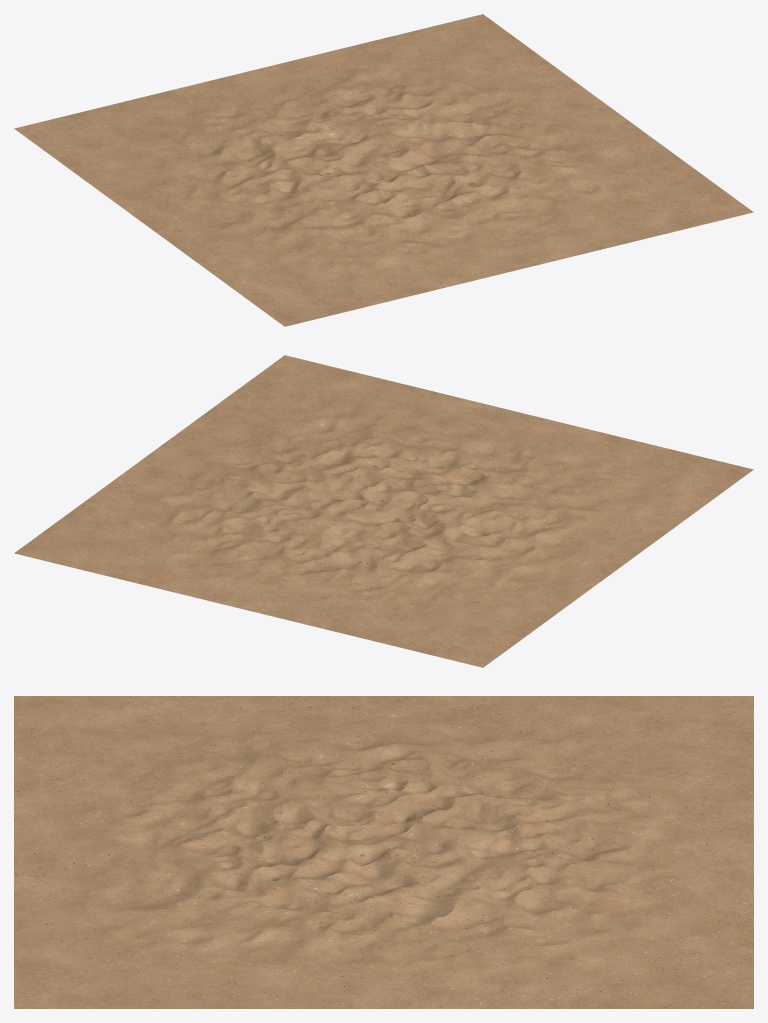
The model's file is ap_modular_wadi_desert_dunes2.gltf.
3 views of the same model, one above another, from view 1: azimuth 30°, elevation 25°; view 2: azimuth 150°, elevation 25°; view 3: azimuth 270°, elevation 25° (orthographic). The views are drawn at different scales.
Visible parts, largest first — view 1: ap_modular_wadi_desert_dunes2; view 2: ap_modular_wadi_desert_dunes2; view 3: ap_modular_wadi_desert_dunes2.
Boxes of the visible parts, x1,y1,x2,y2 form: ap_modular_wadi_desert_dunes2: (14, 14, 753, 326); ap_modular_wadi_desert_dunes2: (14, 355, 753, 667); ap_modular_wadi_desert_dunes2: (14, 696, 753, 1008).
Bounding box in the file's own units: 51.98 × 1.1 × 51.98.
1 material, 1 textured.
